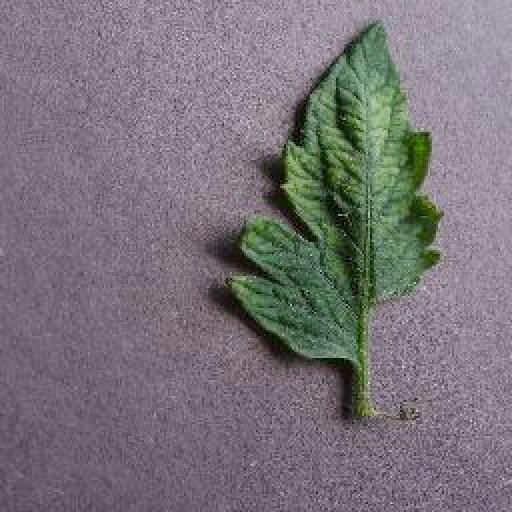disease_tomato: (227, 14, 441, 362)
